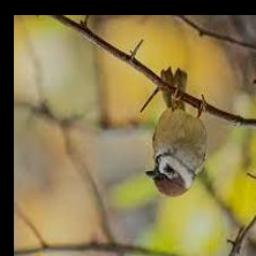Sparrow: (146, 70, 206, 195)
